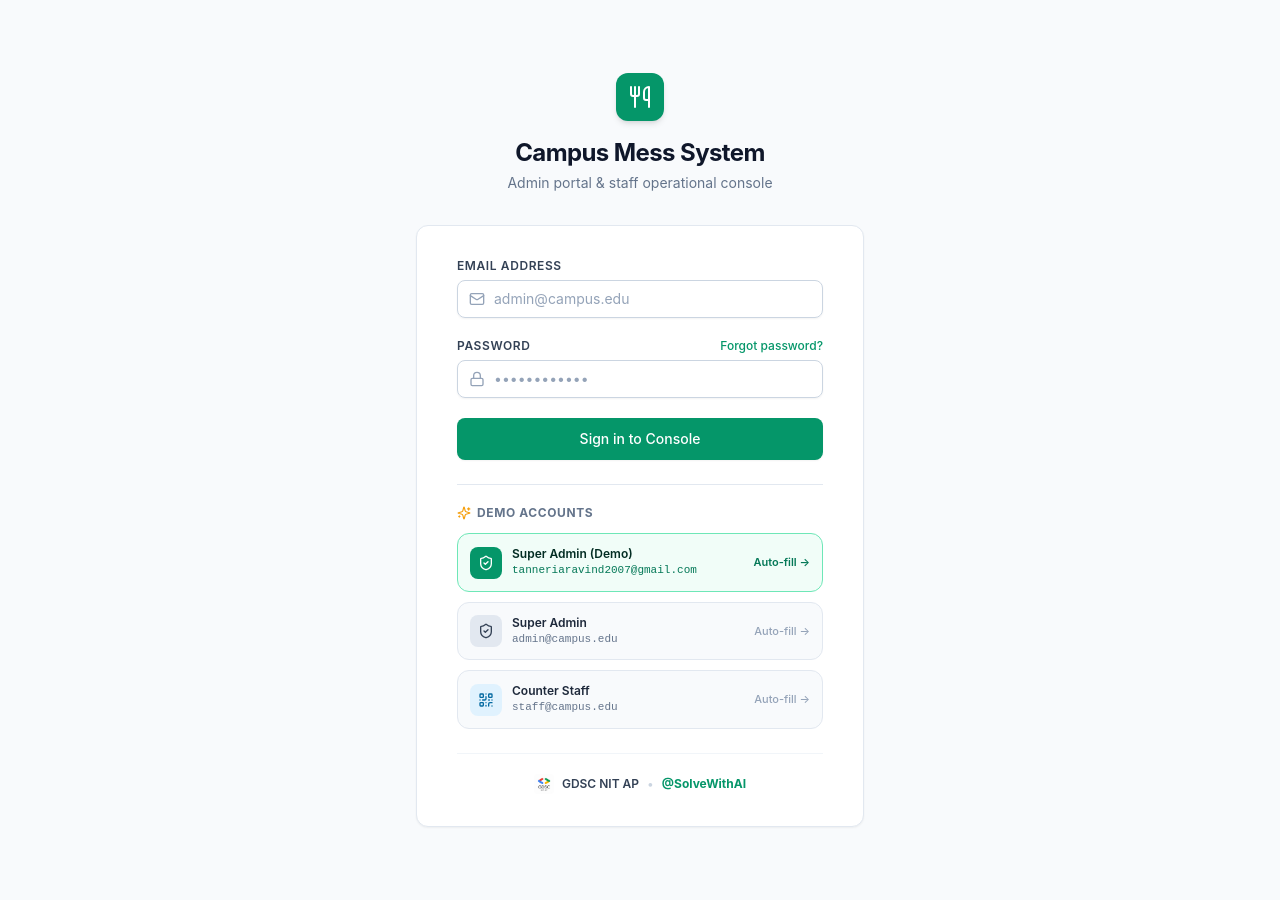
Test case: LoginPage Demo Login & Mock Password Reset Workflow › Mock Password Reset Workflow › completes the full reset password cycle: Request -> Verify -> Reset -> Success
The image size is (1280, 900).
# Open modal
Click the button "Forgot password?" at (772, 346), box [720,338,823,354]
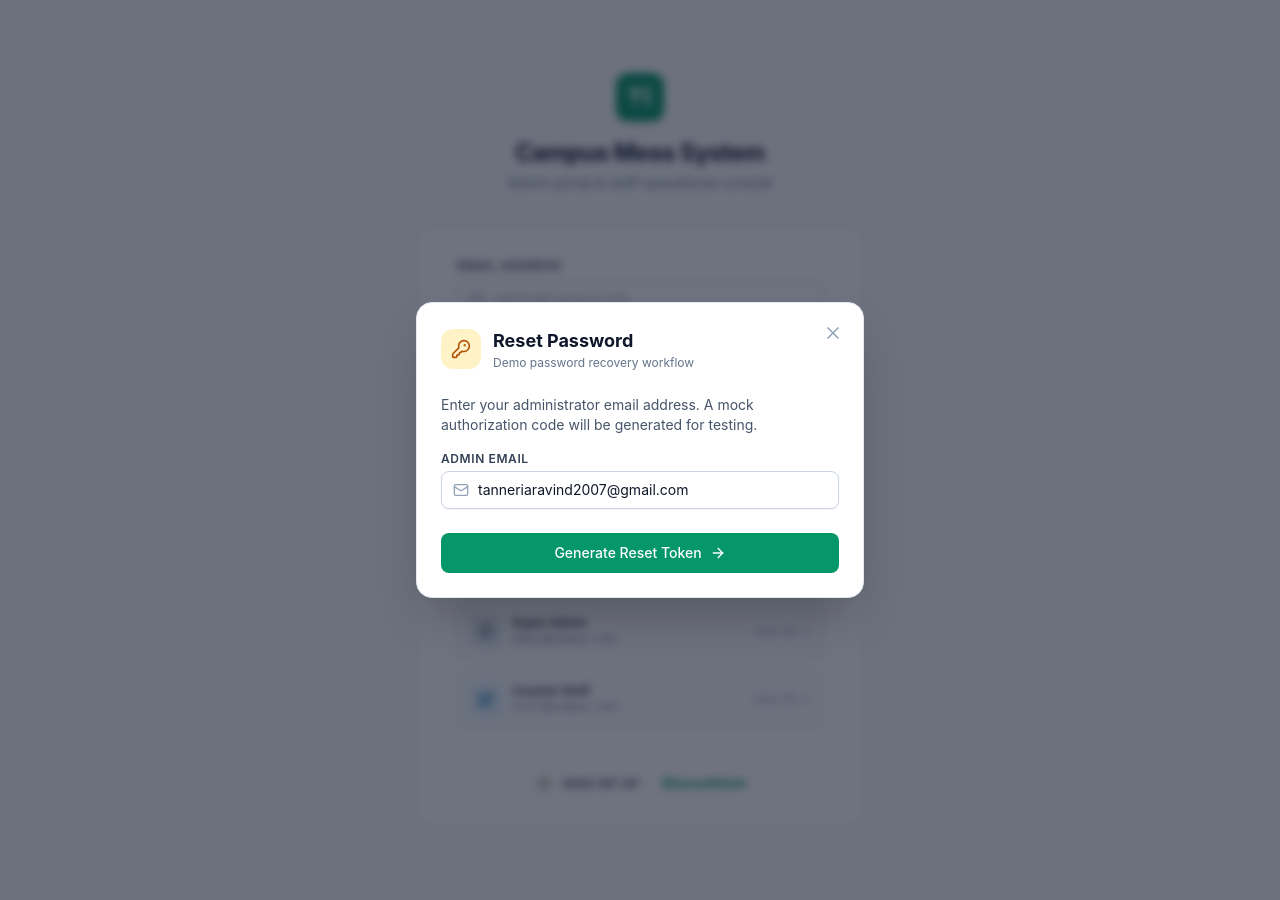
# Request token
Click the button "Generate Reset Token" at (640, 553), box [441,533,839,573]
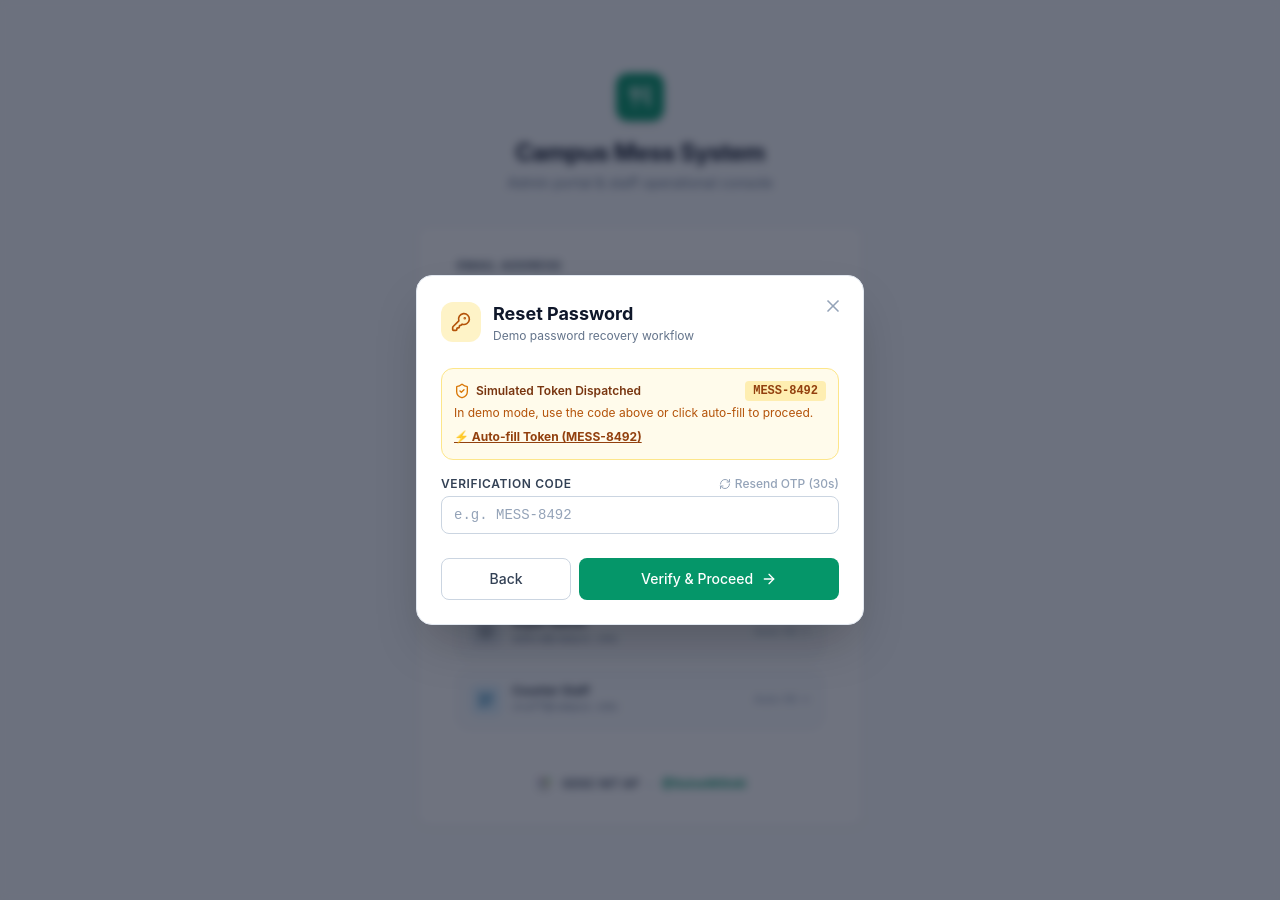
Result: the text "Simulated Token Dispatched" is shown at [454,383,641,399]
Result: the text "MESS-8492" is shown at [745,381,826,401]
# Click auto-fill token
Click the button "⚡ Auto-fill Token (MESS-8492)" at (548, 437), box [454,429,642,445]
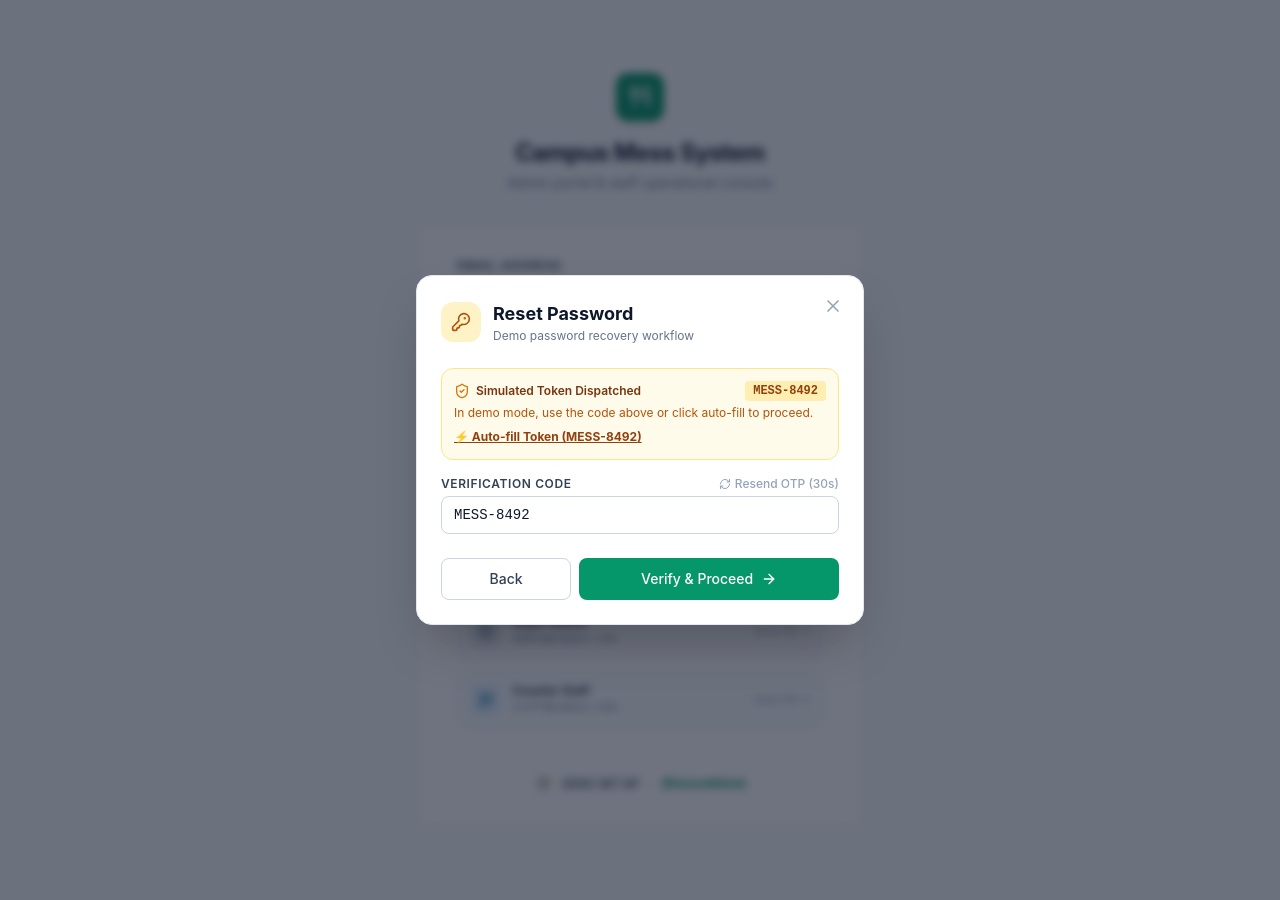
# Submit token verification
Click the button "Verify & Proceed" at (709, 579), box [579,558,839,600]
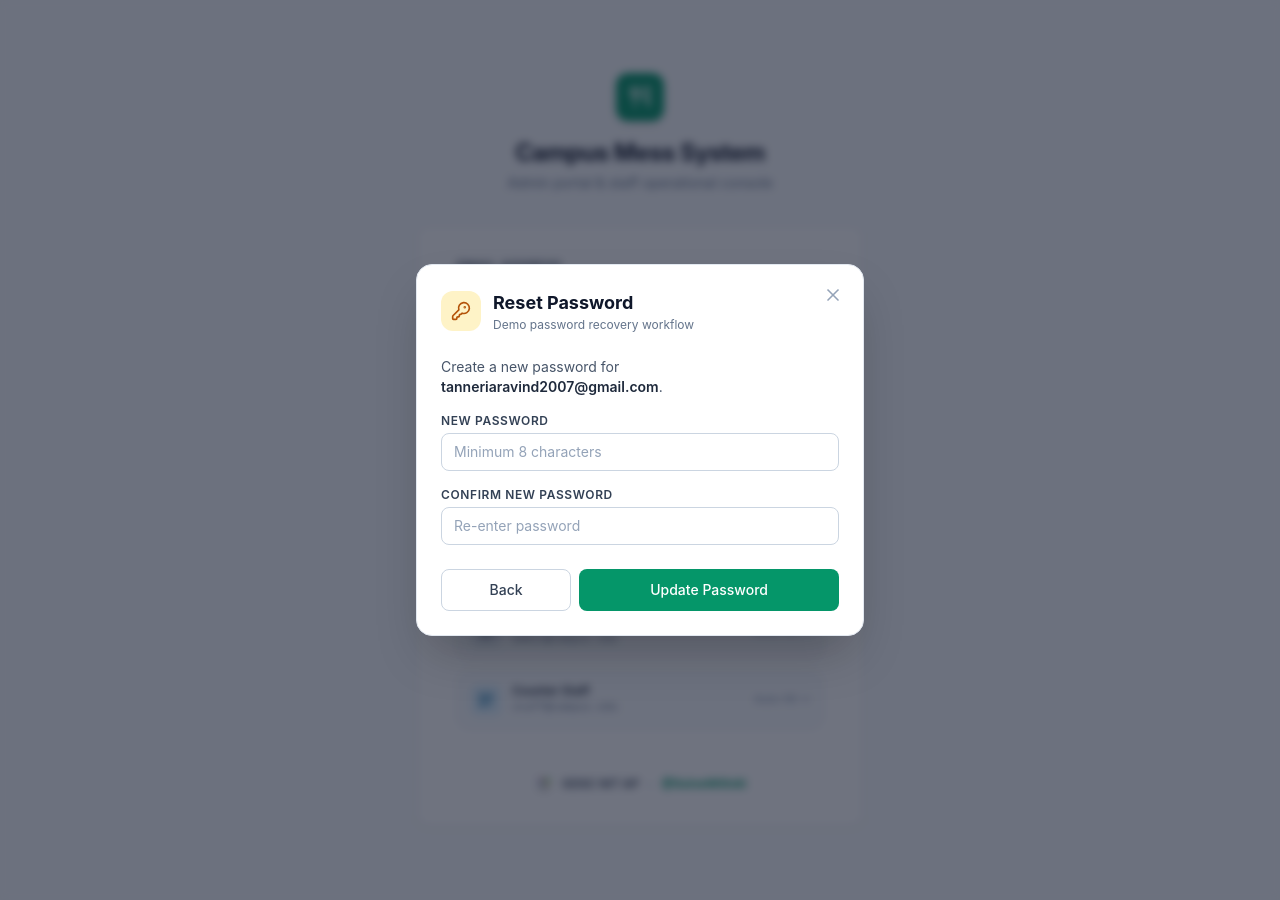
Result: the password field with placeholder "Minimum 8 characters" is shown
Type "NewSecurePassword123!" into the password field with placeholder "Minimum 8 characters" at (640, 452), box [441,433,839,471]
Type "NewSecurePassword123!" into the password field with placeholder "Re-enter password" at (640, 526), box [441,507,839,545]
Click the button "Update Password" at (709, 590), box [579,569,839,611]
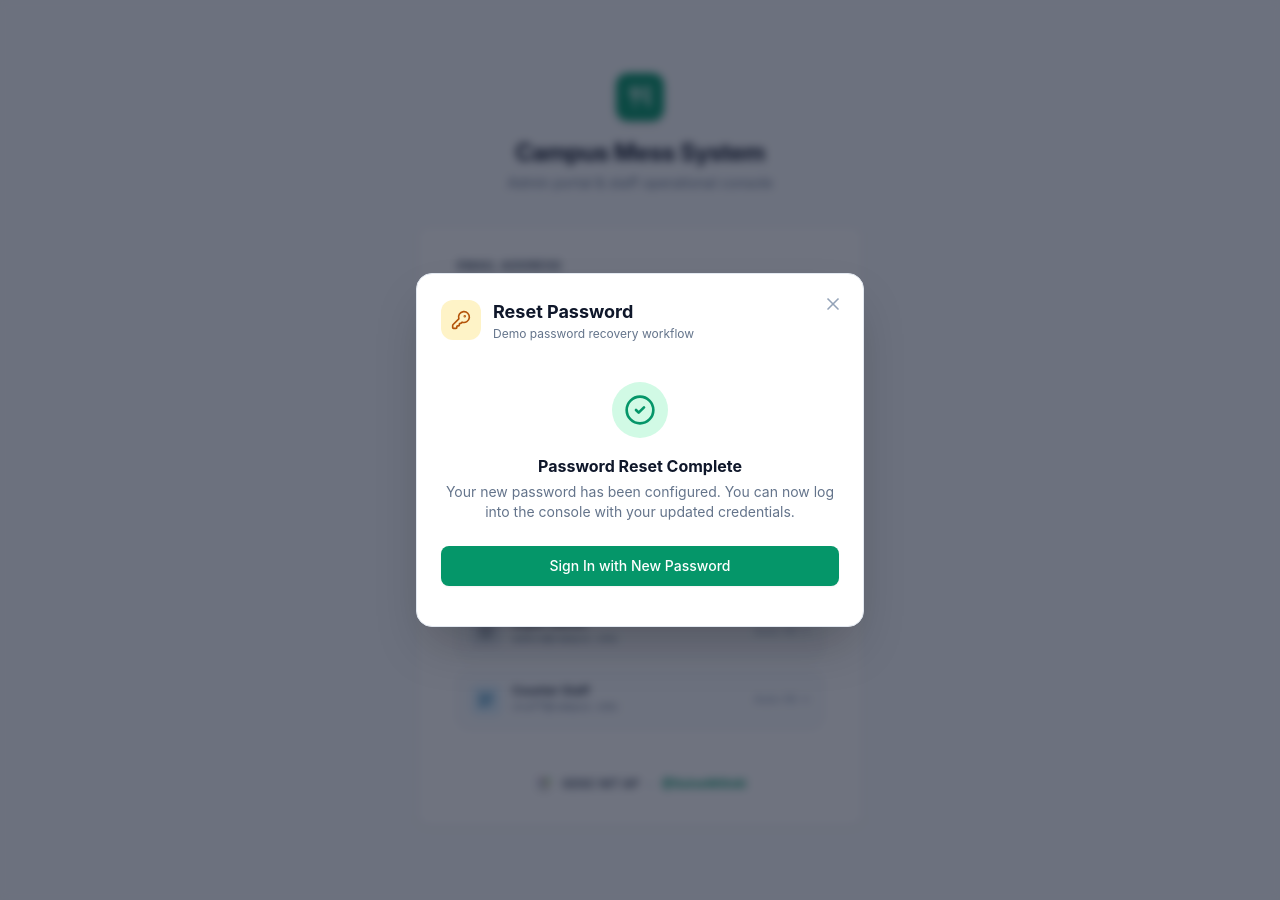
Result: the heading "Password Reset Complete" is shown at [538,456,742,476]
# Complete and return to login
Click the button "Sign In with New Password" at (640, 566), box [441,546,839,586]
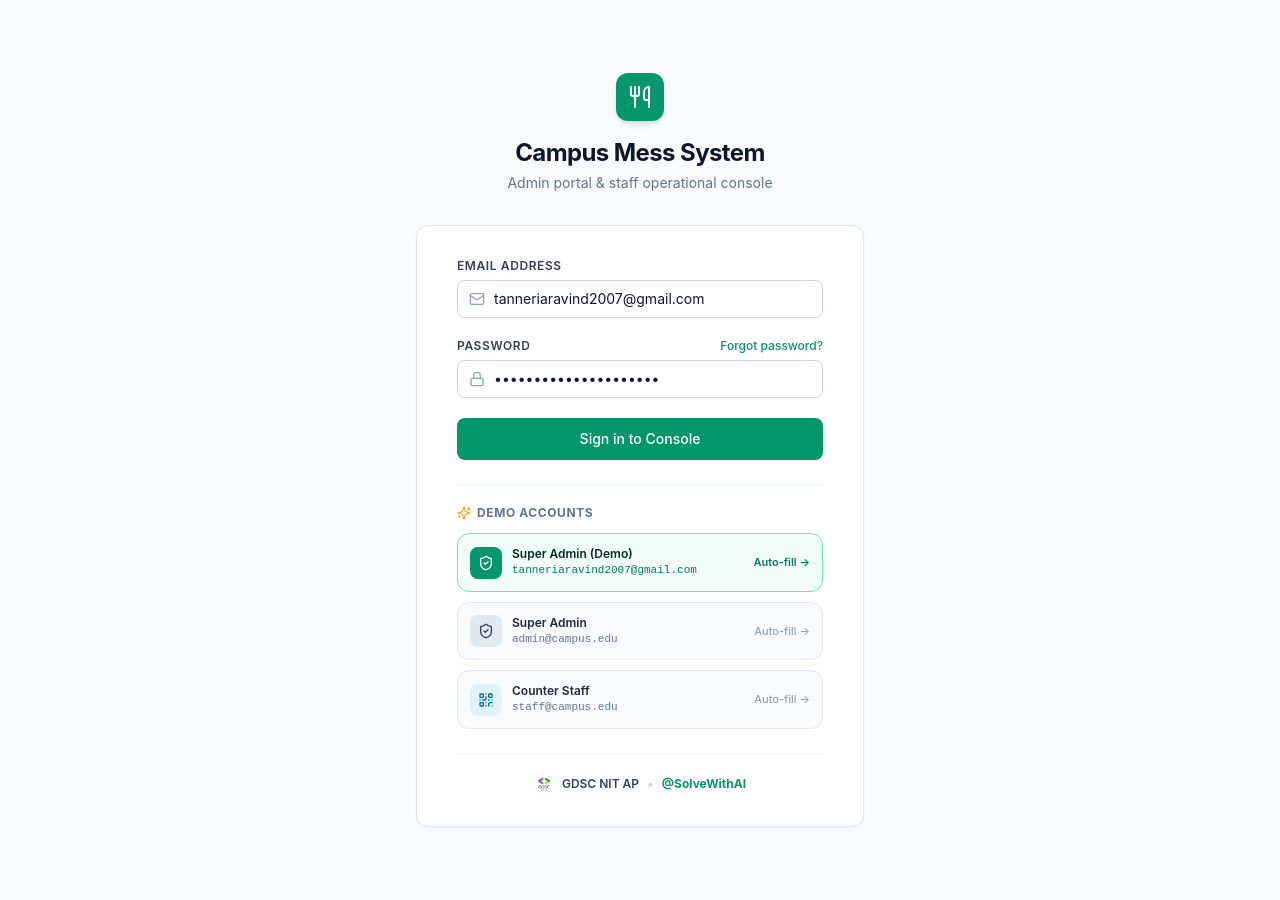
Result: the password field labelled "Password" holds "NewSecurePassword123!" at [457,360,823,398]
